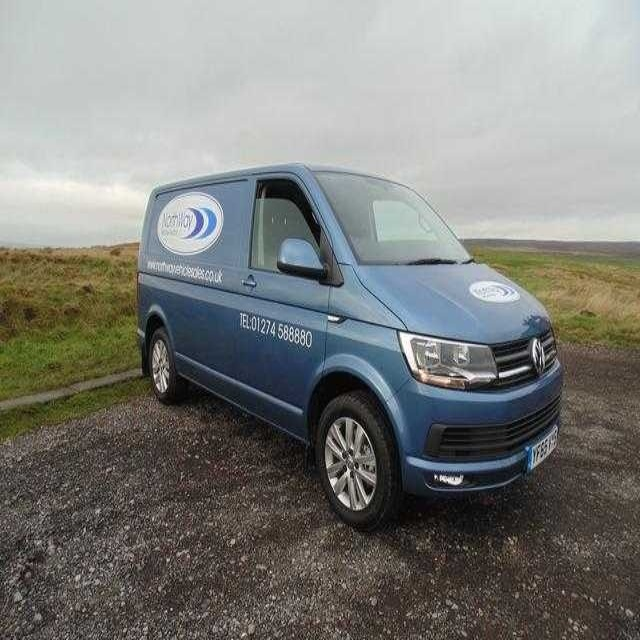Van: (134, 161, 562, 531)
